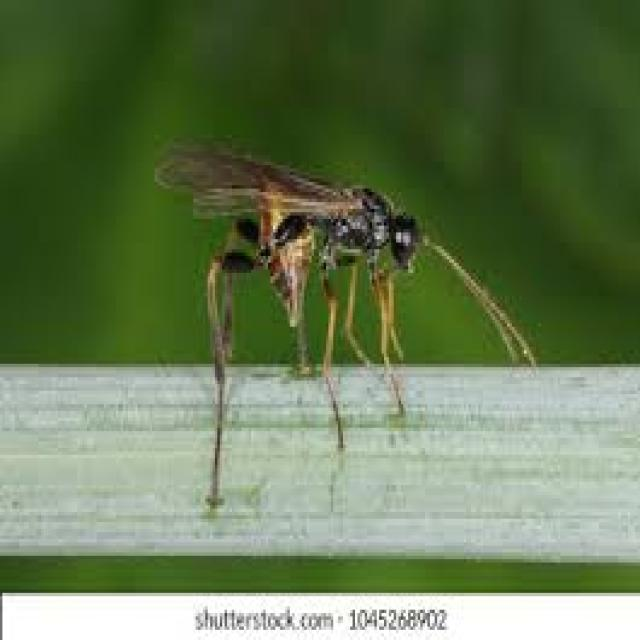Saw Fly: (148, 132, 549, 520)
